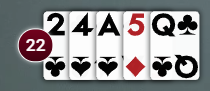2: (41, 10, 69, 38)
4: (69, 11, 96, 38)
5: (123, 11, 150, 37)
a: (96, 11, 123, 39)
q: (149, 10, 177, 39)
